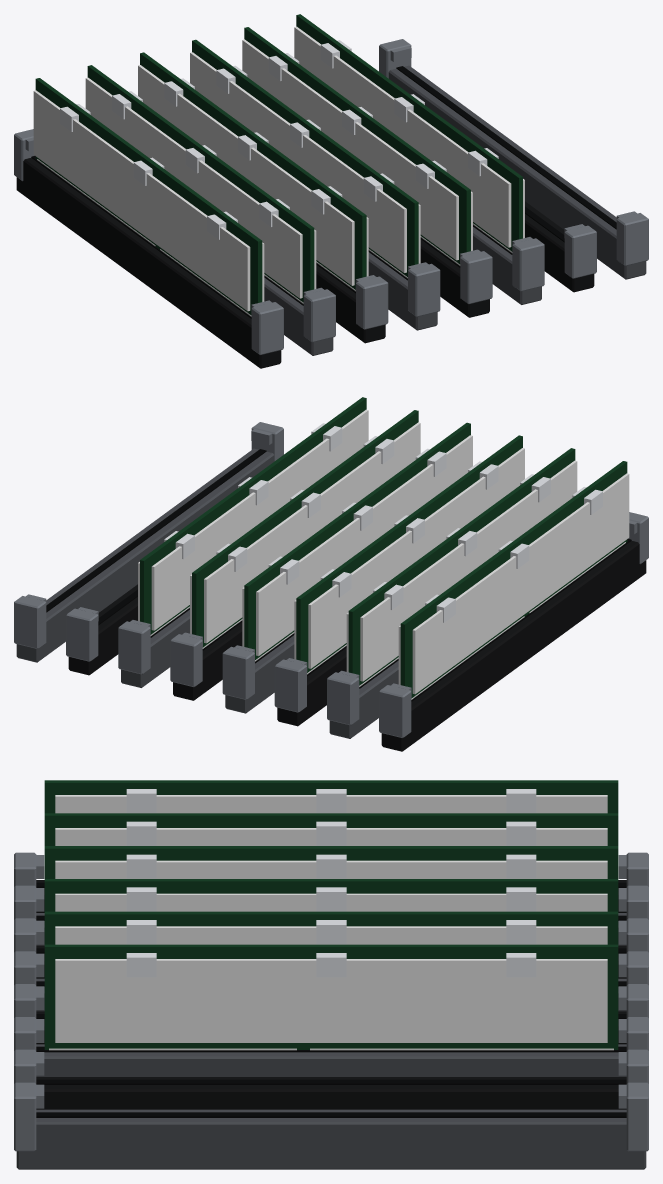
File: hwm_ram_ddr4_64gb.glb
3 views of the same model, one above another, from view 1: azimuth 30°, elevation 25°; view 2: azimuth 150°, elevation 25°; view 3: azimuth 270°, elevation 25° (orthographic). The views are drawn at different scales.
Parts seen in each view (by area): view 1: Slots, Stick_0, Stick_1, Stick_3, Stick_2, Stick_4, Stick_5, Latch_2_1, Latch_1_1, Latch_4_1, Latch_0_1, Latch_5_1 (+5 smaller); view 2: Slots, Stick_0, Stick_1, Stick_3, Stick_2, Stick_4, Stick_5, Latch_2_0, Latch_1_0, Latch_4_0, Latch_0_0, Latch_5_0 (+5 smaller); view 3: Slots, Stick_5, Stick_0, Stick_4, Stick_1, Stick_2, Stick_3, Latch_7_0, Latch_7_1, Latch_2_0, Latch_2_1, Latch_6_0 (+11 smaller).
Part boxes in pixels (<box>): Slots: <box>16,65,646,368</box>; Stick_0: <box>33,78,264,316</box>; Stick_1: <box>85,65,316,303</box>; Stick_3: <box>190,39,420,278</box>; Stick_2: <box>138,52,368,291</box>; Stick_4: <box>242,27,472,265</box>; Stick_5: <box>294,14,524,252</box>; Latch_2_1: <box>355,275,388,329</box>; Latch_1_1: <box>303,287,335,342</box>; Latch_4_1: <box>460,249,492,303</box>; Latch_0_1: <box>251,300,283,354</box>; Latch_5_1: <box>512,237,544,291</box>; Slots: <box>16,448,646,751</box>; Stick_0: <box>398,461,629,699</box>; Stick_1: <box>346,448,577,686</box>; Stick_3: <box>242,422,472,661</box>; Stick_2: <box>294,435,524,674</box>; Stick_4: <box>190,410,420,648</box>; Stick_5: <box>138,397,368,635</box>; Latch_2_0: <box>274,658,307,712</box>; Latch_1_0: <box>327,670,359,725</box>; Latch_4_0: <box>170,632,202,686</box>; Latch_0_0: <box>379,683,411,737</box>; Latch_5_0: <box>118,620,150,674</box>; Slots: <box>16,880,646,1169</box>; Stick_5: <box>44,944,618,1050</box>; Stick_0: <box>44,780,618,813</box>; Stick_4: <box>44,911,618,944</box>; Stick_1: <box>44,813,618,845</box>; Stick_2: <box>44,846,618,878</box>; Stick_3: <box>44,879,618,911</box>; Latch_7_0: <box>618,1082,648,1151</box>; Latch_7_1: <box>14,1082,44,1151</box>; Latch_2_0: <box>618,918,648,952</box>; Latch_2_1: <box>14,918,44,952</box>; Latch_6_0: <box>618,1049,648,1083</box>.
Size of the model in its own units: 0.1346 by 0.0389 by 0.1472.
